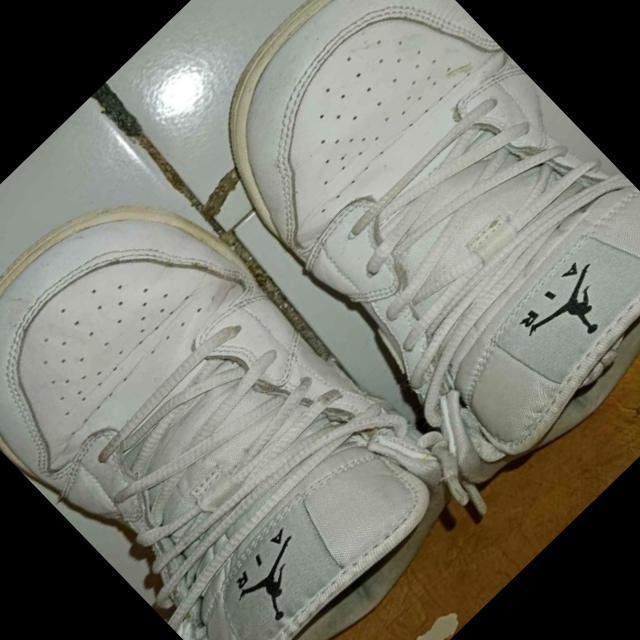nike fake jordan 1: (0, 126, 500, 640), (156, 0, 640, 504)
